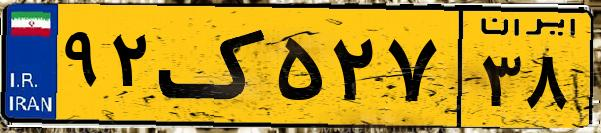2: (330, 28, 385, 110), (110, 28, 158, 98)
3: (475, 38, 525, 113)
5: (270, 28, 330, 110)
7: (385, 28, 445, 110)
8: (525, 38, 570, 115)
9: (57, 26, 110, 100)
ک: (158, 12, 270, 120)
